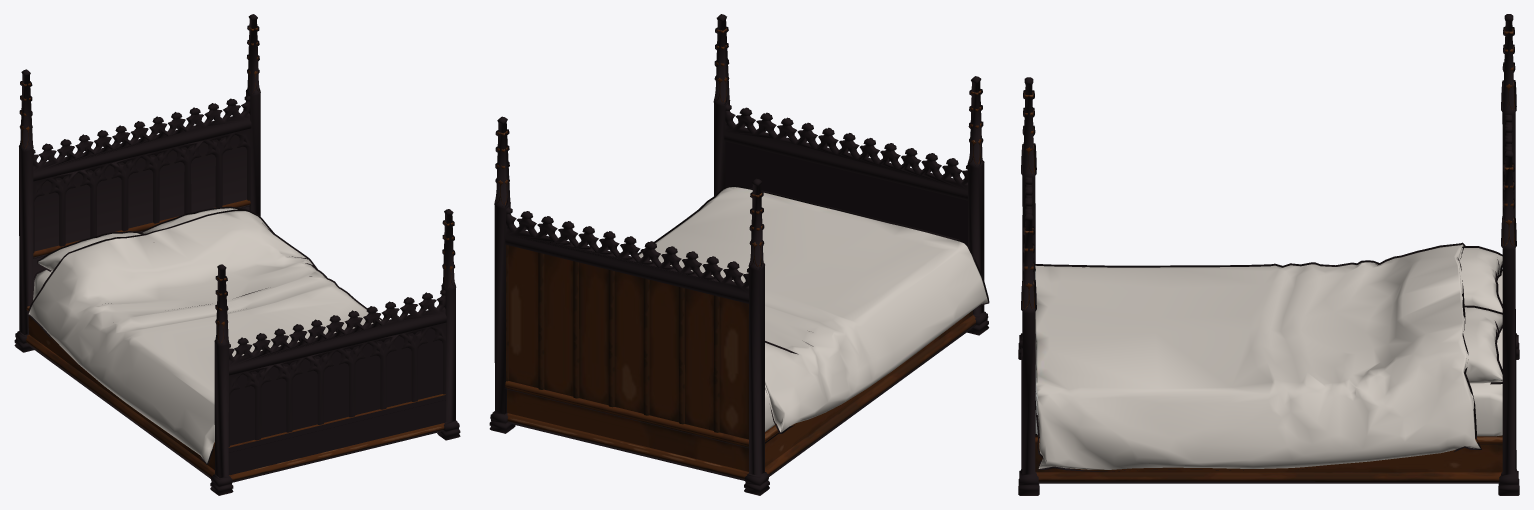
The model's file is SM_Int_GrandBed.fbx.
3 views of the same model, side by side, from view 1: azimuth 30°, elevation 25°; view 2: azimuth 150°, elevation 25°; view 3: azimuth 270°, elevation 25° (orthographic). The views are drawn at different scales.
Parts seen in each view (by area): view 1: SM_Int_GrandBed; view 2: SM_Int_GrandBed; view 3: SM_Int_GrandBed.
Part boxes in pixels (box(x1,y1,x2,y2)): SM_Int_GrandBed: box(14, 14, 460, 495); SM_Int_GrandBed: box(489, 14, 989, 495); SM_Int_GrandBed: box(1018, 14, 1519, 495).
Size of what is drawn, in the model's own units: 1.51 by 1.54 by 2.05.
